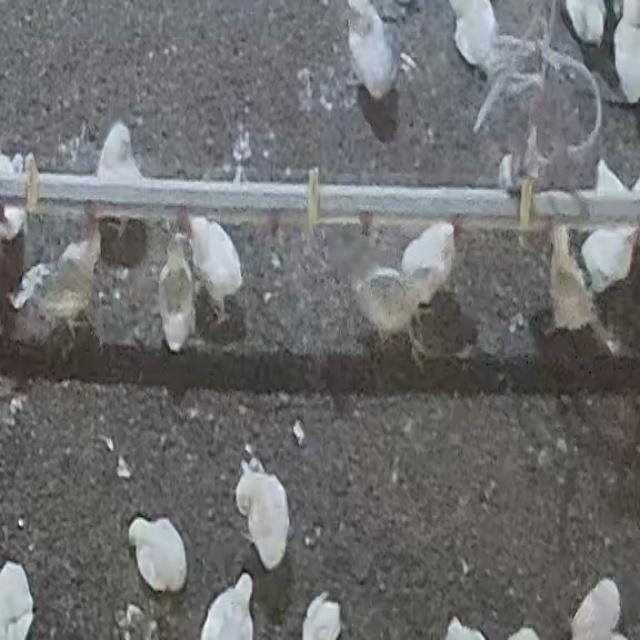chicken: (467, 0, 602, 191), (356, 221, 460, 351), (544, 225, 619, 356), (88, 120, 151, 272), (163, 202, 244, 312), (36, 218, 104, 344), (237, 466, 306, 571), (342, 2, 400, 105), (158, 228, 196, 352), (129, 517, 187, 594), (579, 222, 636, 297), (444, 1, 499, 74), (200, 572, 256, 640), (570, 578, 622, 640), (1, 149, 32, 245), (0, 562, 37, 639), (6, 262, 52, 312), (562, 1, 606, 46), (301, 592, 341, 640), (446, 616, 492, 640), (121, 603, 148, 637), (498, 153, 515, 190), (116, 454, 132, 480)
